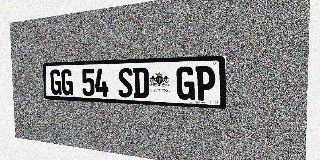4: (95, 68, 108, 97)
5: (82, 69, 95, 96)
D: (133, 67, 149, 98)
G: (176, 66, 195, 100), (50, 69, 62, 95), (61, 69, 73, 95)
P: (195, 66, 215, 101)
S: (118, 68, 133, 98)
